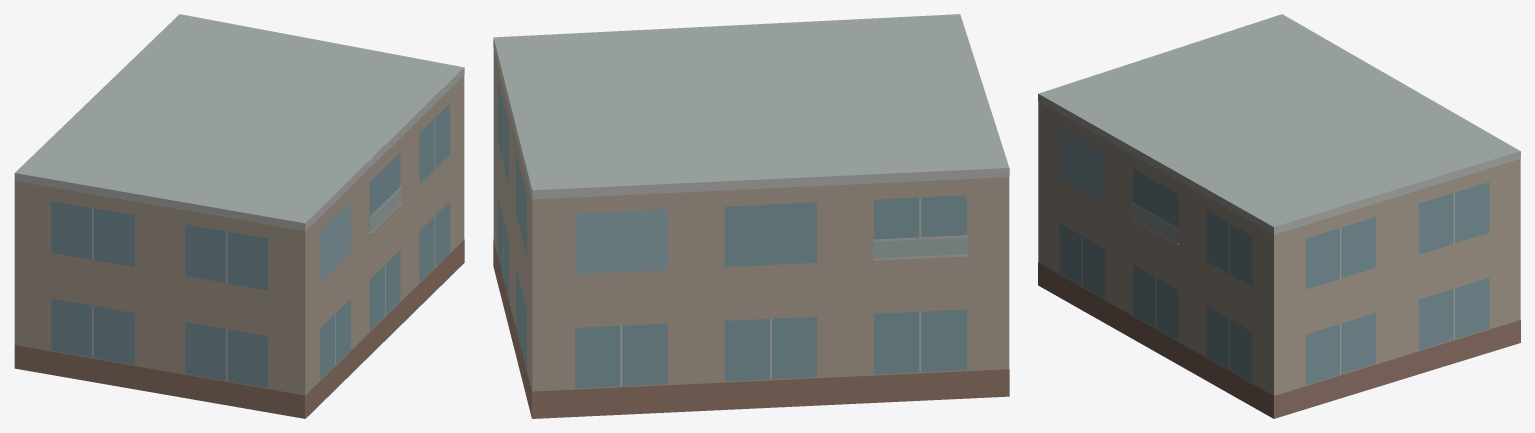
The model's file is survey-upis-32685979.glb.
The picture shows the model from 3 angles, left to right: view 1: azimuth 30°, elevation 25°; view 2: azimuth 150°, elevation 25°; view 3: azimuth 270°, elevation 25°; orthographic projection. The views are drawn at different scales.
Visible parts, largest first — view 1: survey-upis-32685979.tmp; view 2: survey-upis-32685979.tmp; view 3: survey-upis-32685979.tmp.
Part boxes in pixels (x1=…): survey-upis-32685979.tmp: x1=14, y1=14, x2=464, y2=418; survey-upis-32685979.tmp: x1=493, y1=14, x2=1009, y2=418; survey-upis-32685979.tmp: x1=1038, y1=14, x2=1520, y2=418.
Size of the model in its own units: 14.56 by 6.1 by 13.92.
